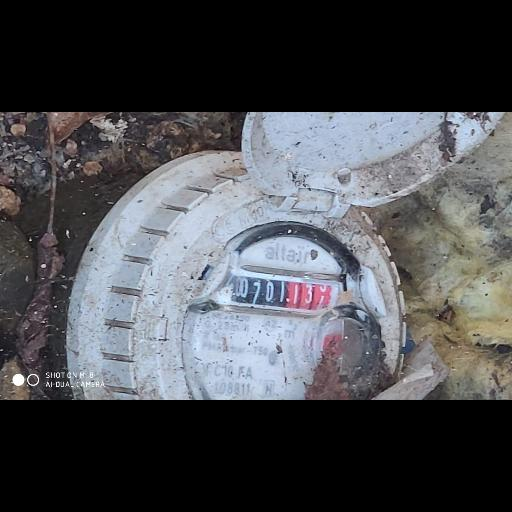0: (262, 278, 279, 307), (238, 276, 252, 304), (231, 274, 244, 302)
1: (287, 281, 303, 309), (276, 280, 289, 309)
3: (301, 283, 315, 310)
4: (315, 284, 332, 312)
7: (249, 277, 265, 306)
border_water_meter_number: (210, 265, 345, 319)
